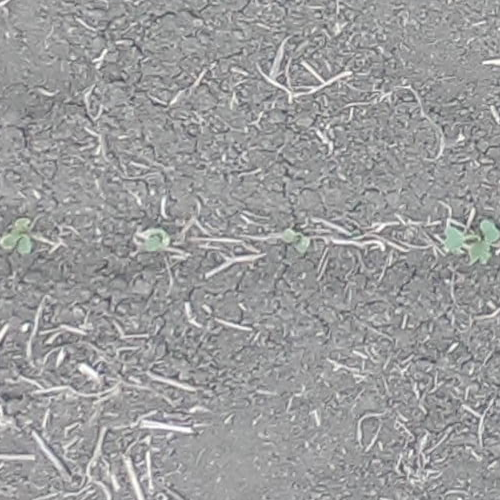isolated: (446, 218, 499, 265), (0, 216, 35, 253), (277, 226, 312, 255), (137, 227, 175, 253)
